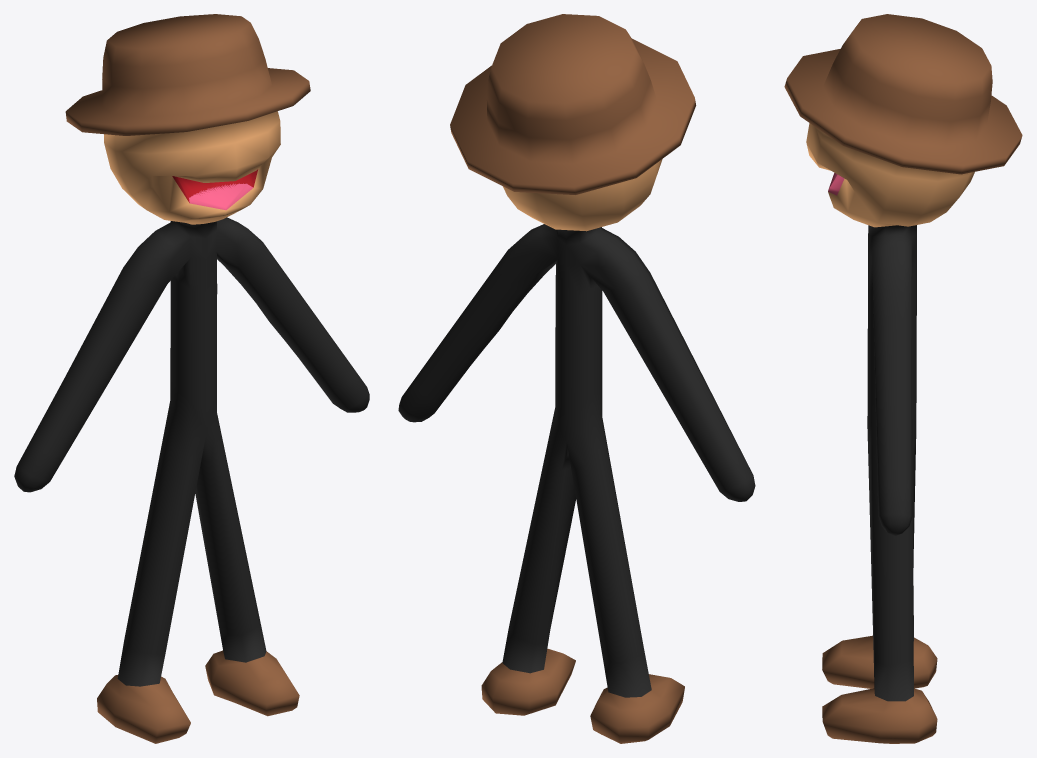
The model's file is ElPalito_Blender_NoSkeleton.fbx.
3 renders of one model, left to right at view 1: azimuth 30°, elevation 25°; view 2: azimuth 150°, elevation 25°; view 3: azimuth 270°, elevation 25°, orthographic.
Visible parts, largest first — view 1: Sphere.003; view 2: Sphere.003; view 3: Sphere.003.
Boxes of the visible parts, x1=… form: Sphere.003: x1=14, y1=14, x2=369, y2=743; Sphere.003: x1=398, y1=14, x2=755, y2=743; Sphere.003: x1=784, y1=14, x2=1022, y2=743.
Bounding box in the file's own units: 454 × 844 × 270.
1 material, 1 textured.
